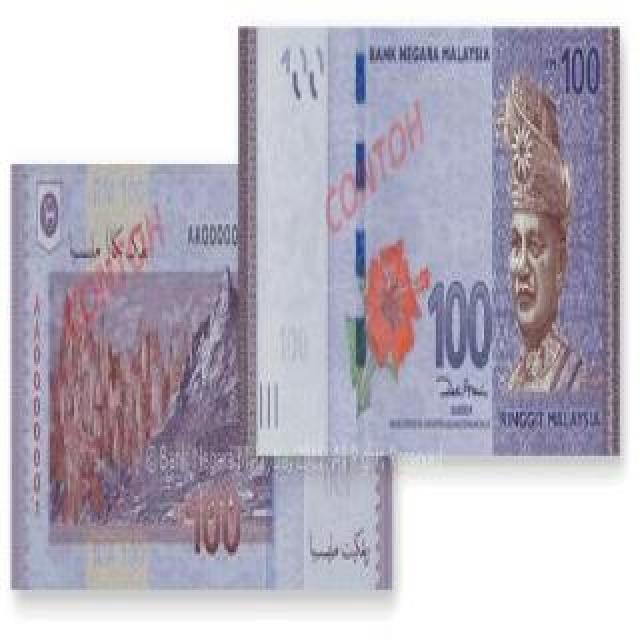100 Ringgit: (240, 22, 621, 449)
